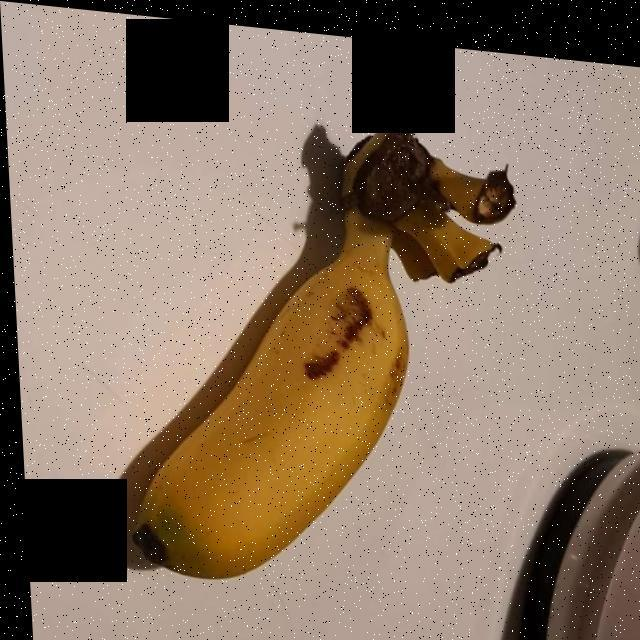banana: (129, 117, 497, 569)
